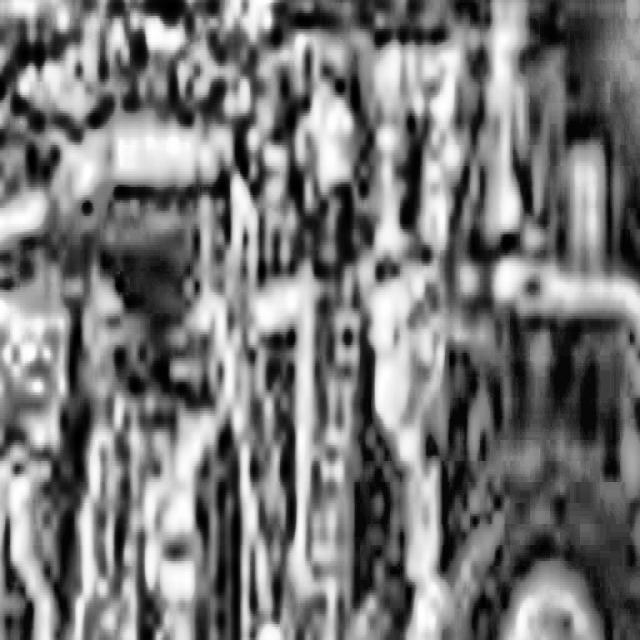dump_truck: (257, 0, 640, 640), (0, 121, 301, 640)
